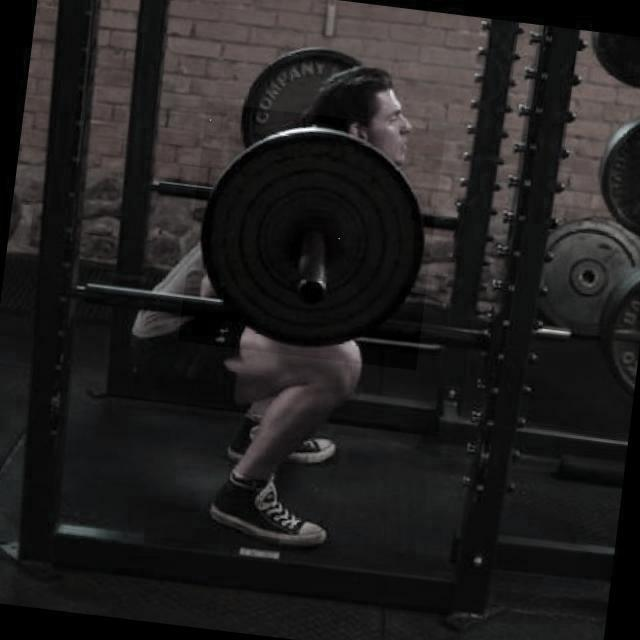barbell: (177, 103, 445, 372)
